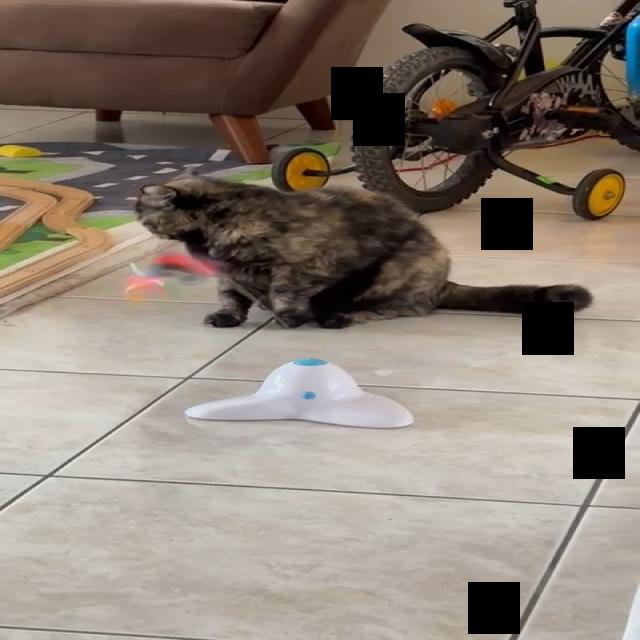authorized: (132, 166, 593, 330)
